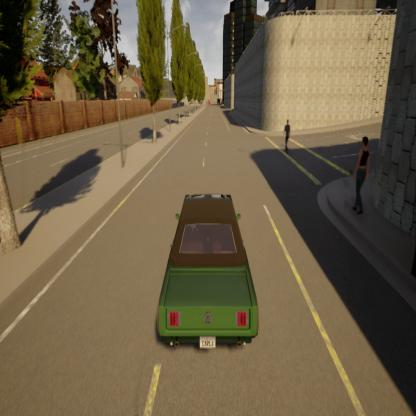Cars: (157, 190, 260, 353)
Pedestrian: (349, 128, 374, 219), (284, 116, 291, 151)
